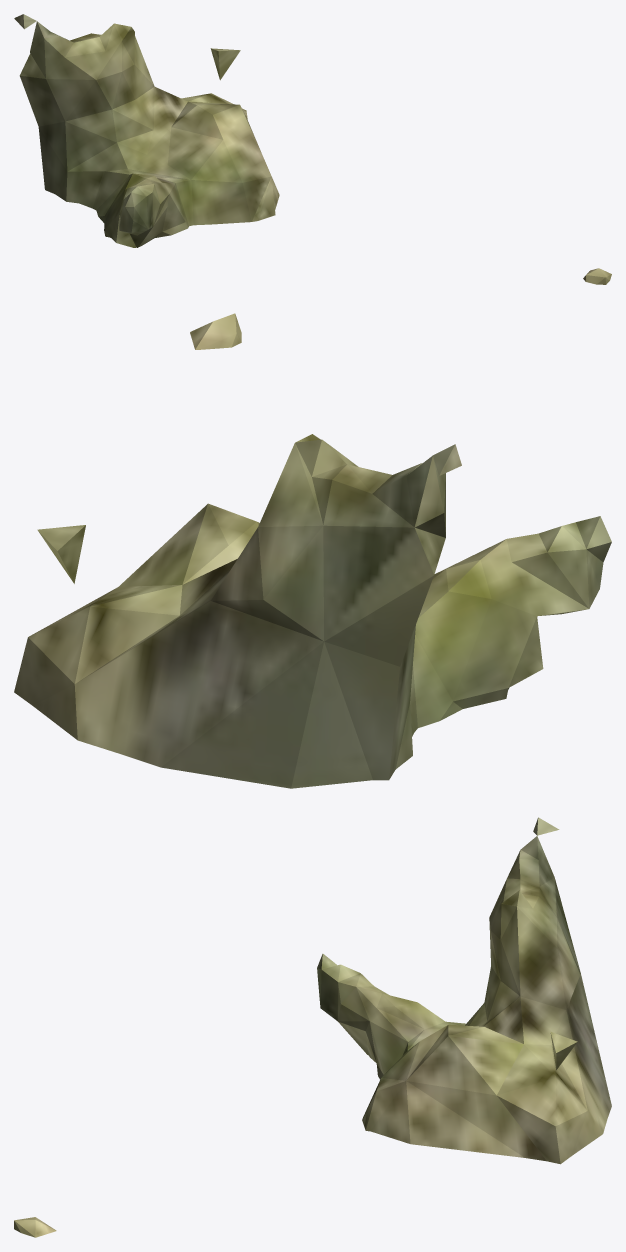
The picture shows the model from 3 angles, top to bottom: view 1: azimuth 30°, elevation 25°; view 2: azimuth 150°, elevation 25°; view 3: azimuth 270°, elevation 25°; orthographic projection. The views are drawn at different scales.
Bounding box in the file's own units: 2.1 × 1.02 × 2.58.
Materials: 1 (1 with a texture image).
